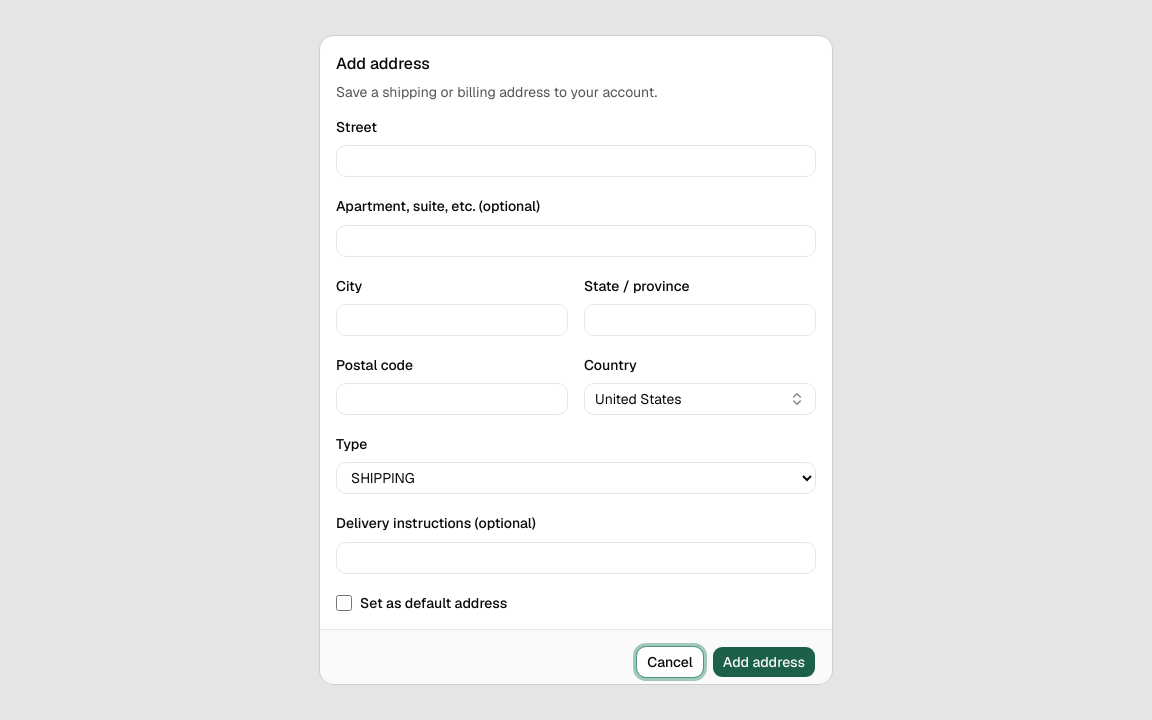
Scenario: AddressFormDialog › shows validation errors for required fields on submit
Clear the field labelled "Street" at (576, 161), box left=336, top=145, right=816, bottom=177
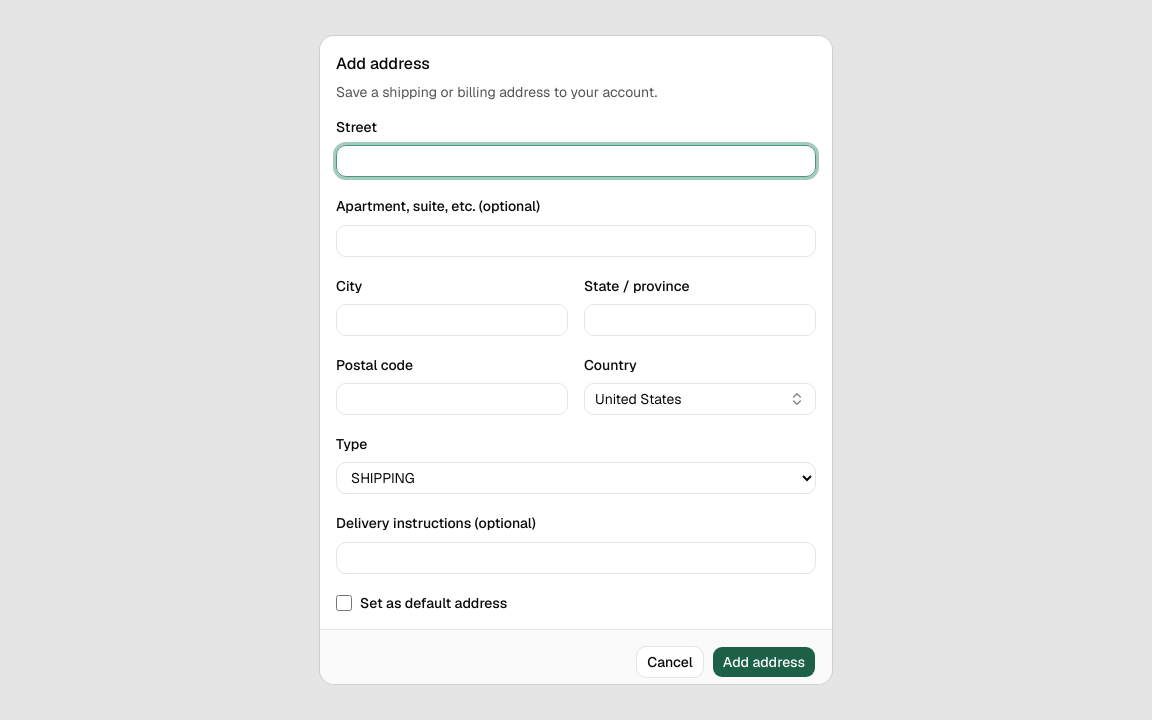
Clear the field labelled "City" at (452, 320), box left=336, top=304, right=568, bottom=336
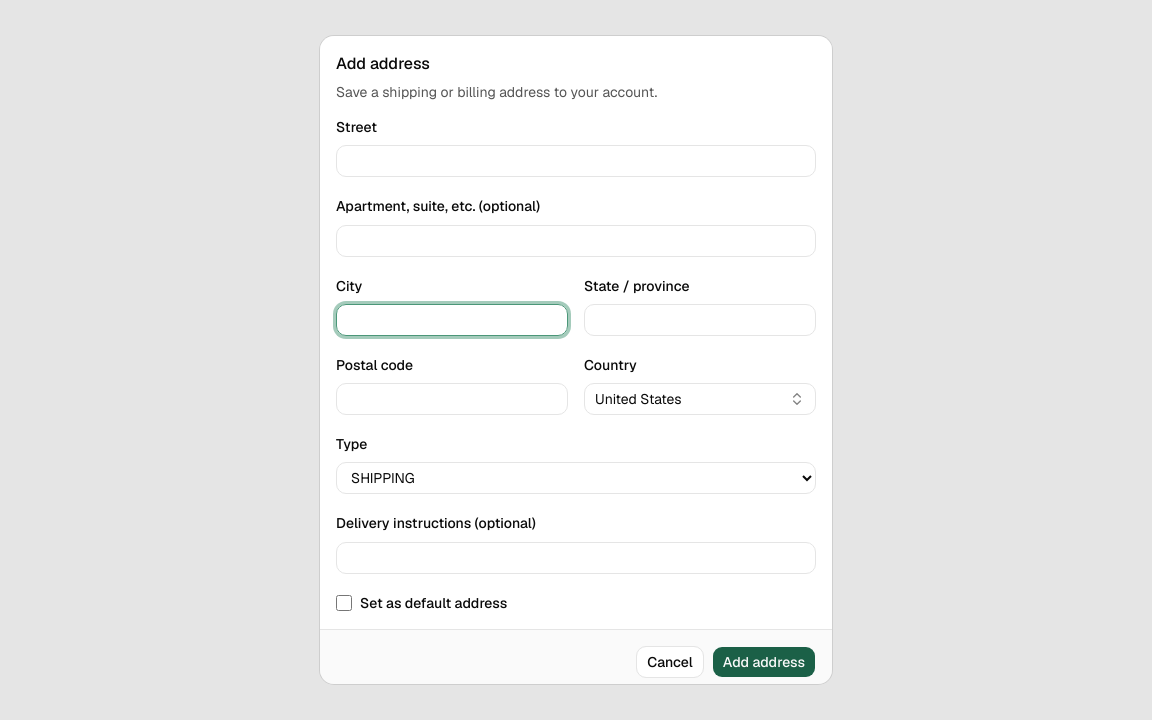
Clear the field labelled "State / province" at (700, 320), box left=584, top=304, right=816, bottom=336
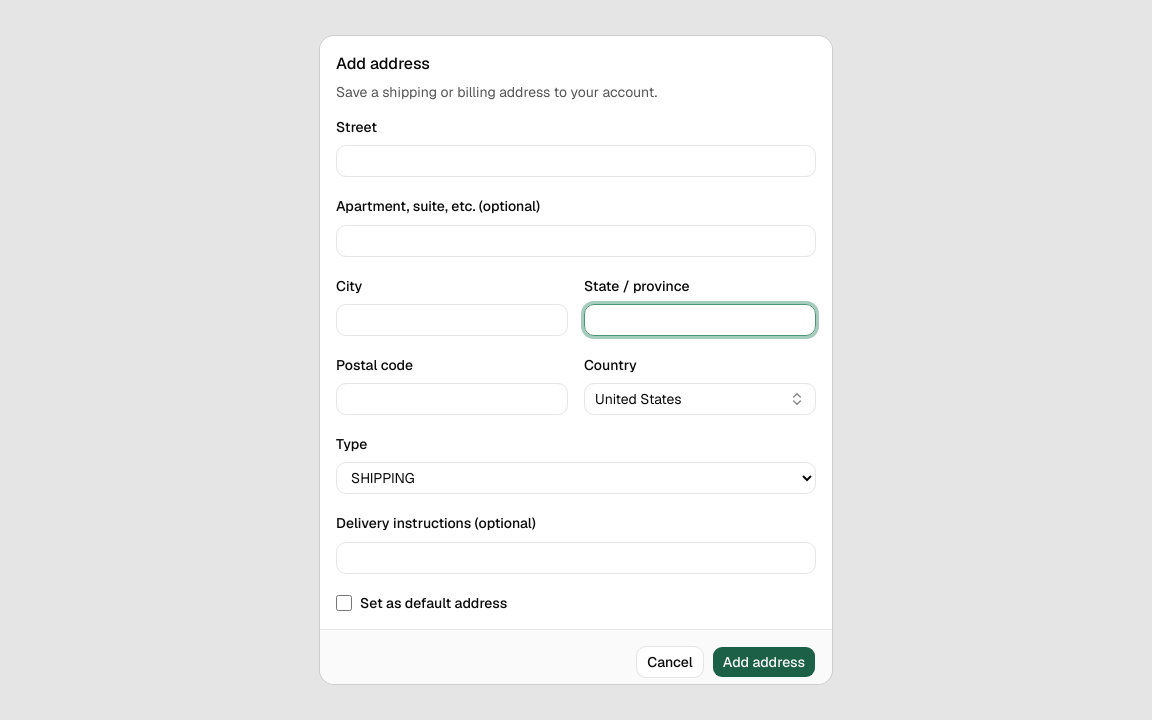
Clear the field labelled "Postal code" at (452, 399), box left=336, top=383, right=568, bottom=415
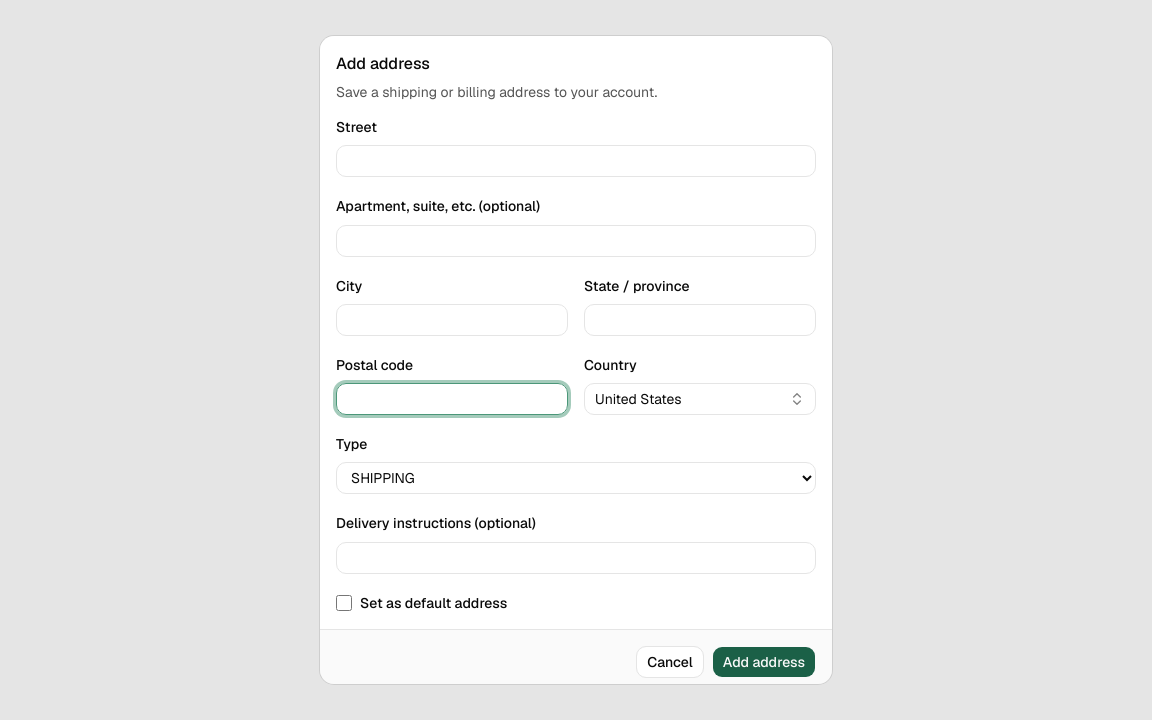
Expected: the dropdown named "country" reads "United States", left=584, top=383, right=816, bottom=415
Click the button "Add address".
click(764, 662)  # box left=712, top=646, right=816, bottom=678
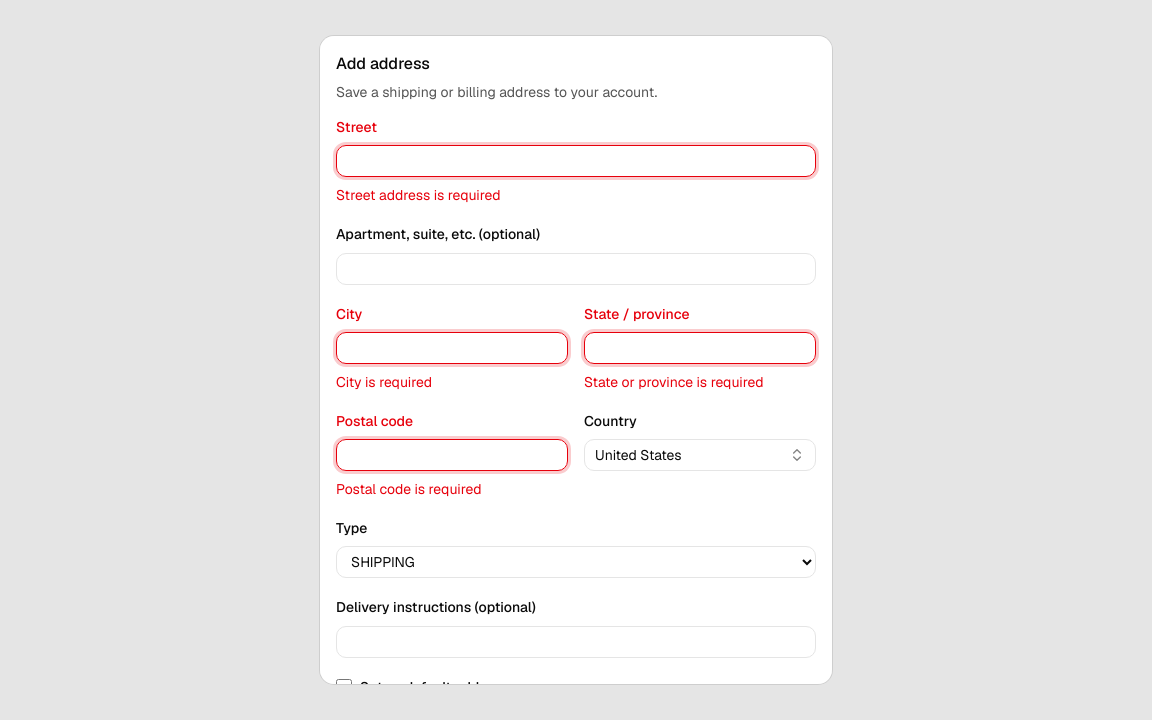
Now the text "Street address is required" is shown, box left=336, top=186, right=501, bottom=204
Now the text "City is required" is shown, box left=336, top=373, right=432, bottom=391
Now the text "State or province is required" is shown, box left=584, top=373, right=764, bottom=391
